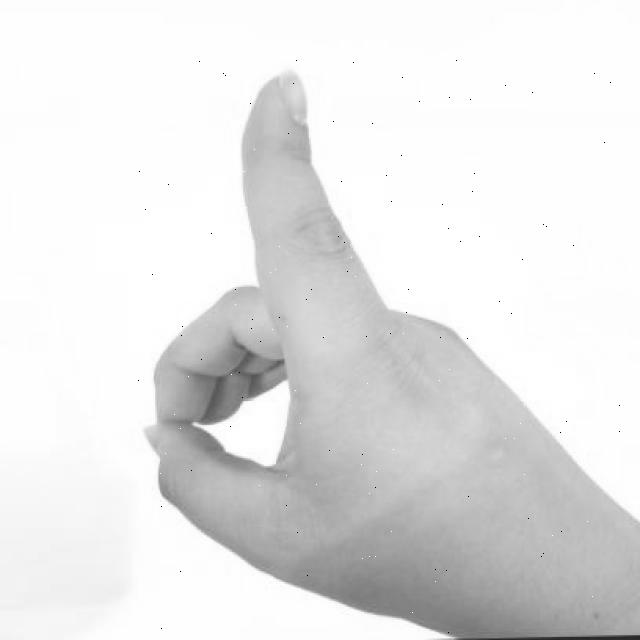D: (134, 58, 624, 638)
